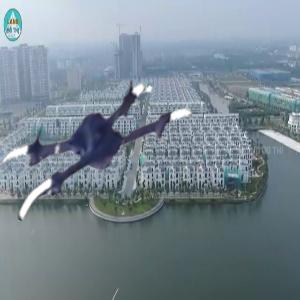drone: (1, 64, 201, 264)
